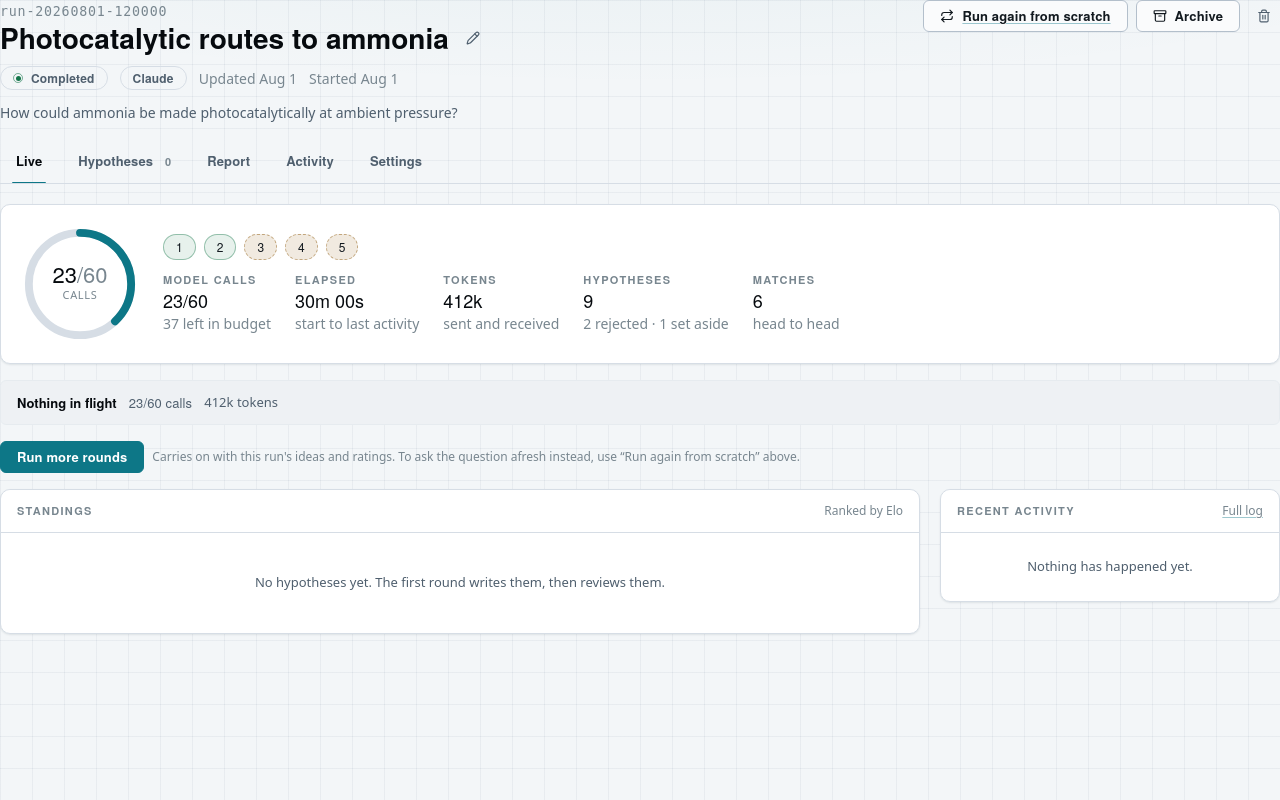
running more rounds of a finished run › the cost ceiling an older run was launched with › offers to remove it, ticked, on a run that has one
Click the button "Run more rounds" at (72, 457), box [0,441,144,473]
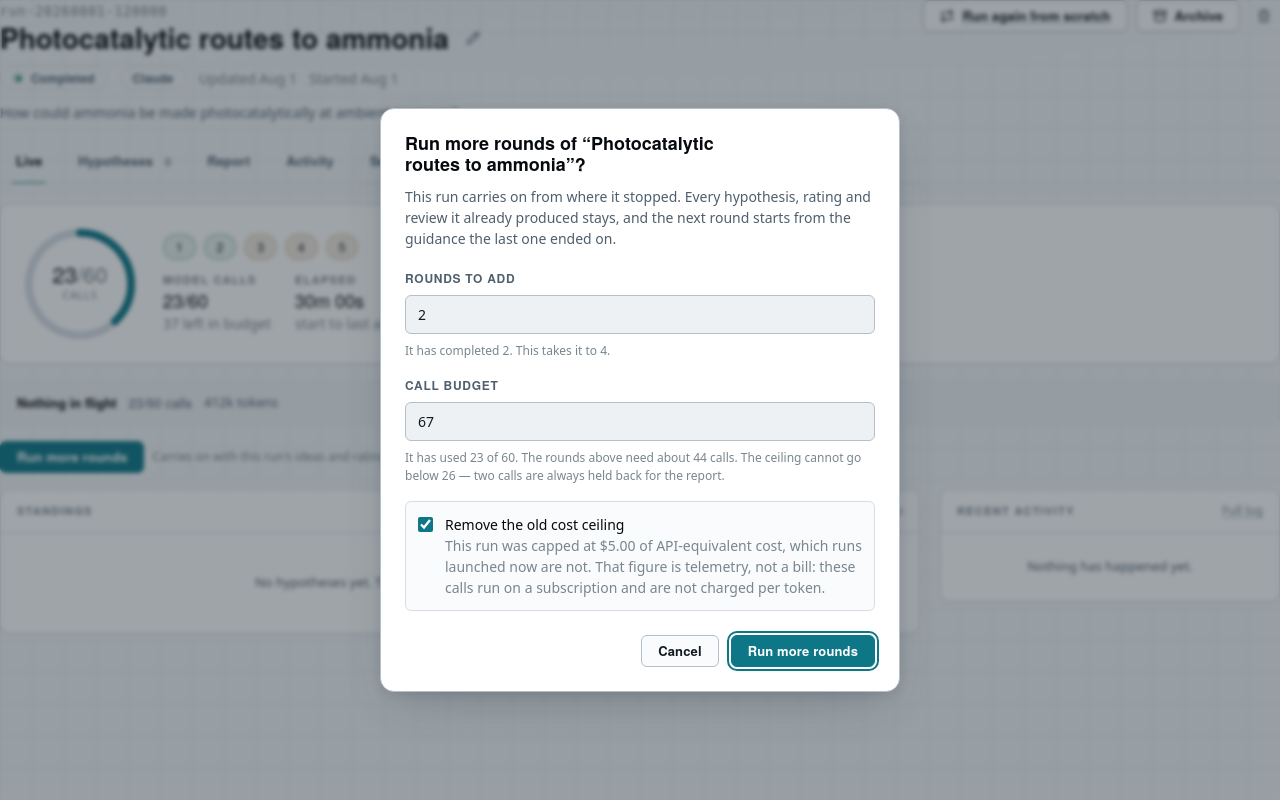
Now the checkbox labelled "Remove the old cost ceiling" is checked, box [418,517,433,532]
Now the dialog shows "capped at $5.00 of API-equivalent cost", box [445,536,862,597]
Now the dialog shows "telemetry, not a bill", box [445,536,862,597]
